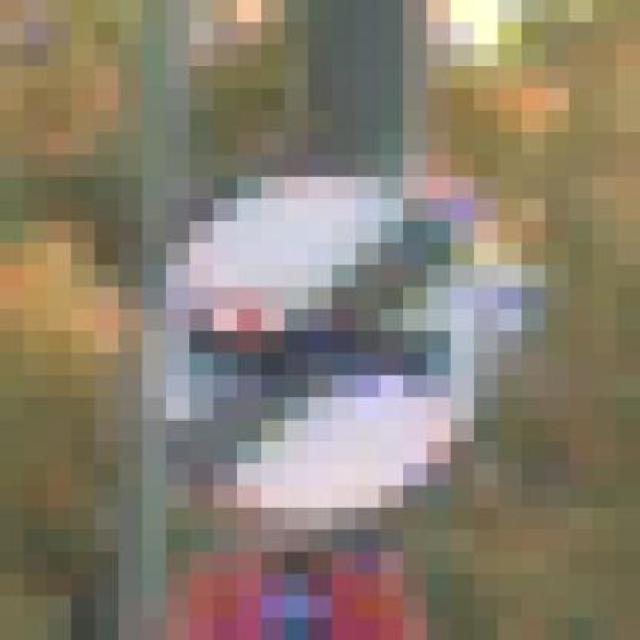No_Over_Taking: (94, 132, 568, 574)
